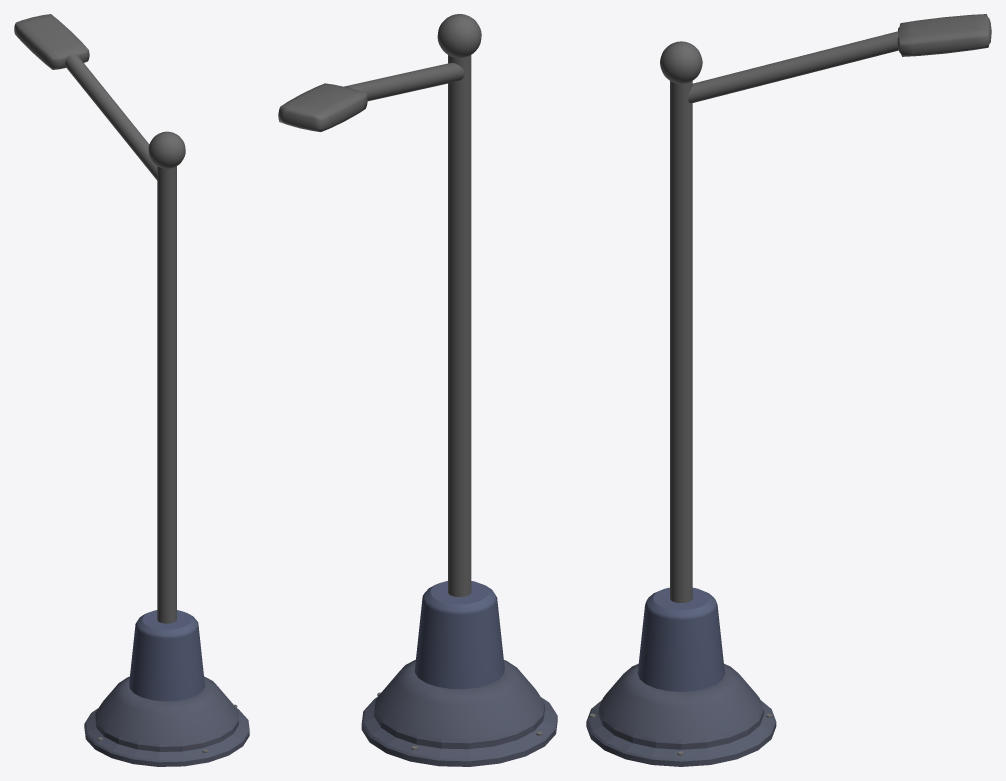
File: post.glb
The picture shows the model from 3 angles, left to right: view 1: azimuth 30°, elevation 25°; view 2: azimuth 150°, elevation 25°; view 3: azimuth 270°, elevation 25°; orthographic projection. The views are drawn at different scales.
Visible parts, largest first — view 1: Base, Pole, Base2, Lamp, LightPole, PoleTip; view 2: Base, Pole, Base2, Lamp, LightPole, PoleTip; view 3: Base, Pole, Base2, LightPole, Lamp, PoleTip.
Part boxes in pixels (x1=…): Base: x1=84, y1=676, x2=249, y2=766; Pole: x1=157, y1=166, x2=176, y2=623; Base2: x1=129, y1=610, x2=204, y2=701; Lamp: x1=14, y1=14, x2=89, y2=69; LightPole: x1=65, y1=53, x2=157, y2=180; PoleTip: x1=148, y1=131, x2=185, y2=168; Base: x1=361, y1=659, x2=557, y2=766; Pole: x1=448, y1=55, x2=471, y2=596; Base2: x1=414, y1=581, x2=504, y2=689; Lamp: x1=278, y1=83, x2=367, y2=131; LightPole: x1=344, y1=62, x2=464, y2=101; PoleTip: x1=437, y1=14, x2=481, y2=57; Base: x1=586, y1=664, x2=776, y2=766; Pole: x1=670, y1=81, x2=692, y2=602; Base2: x1=637, y1=587, x2=724, y2=691; LightPole: x1=687, y1=31, x2=898, y2=103; Lamp: x1=897, y1=14, x2=991, y2=56; PoleTip: x1=660, y1=41, x2=702, y2=83.
Bounding box in the file's own units: 0.02 × 0.0819 × 0.0427.
